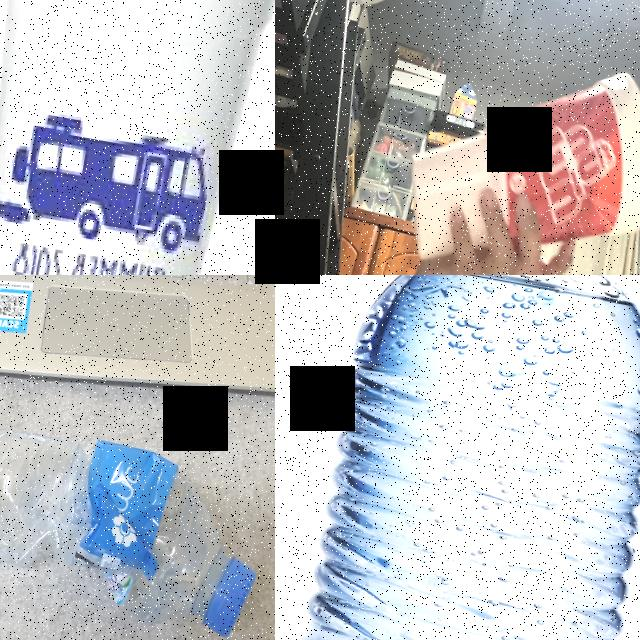bottle: (287, 275, 640, 640), (0, 416, 275, 640)
cup: (0, 0, 275, 275), (393, 35, 640, 275)
